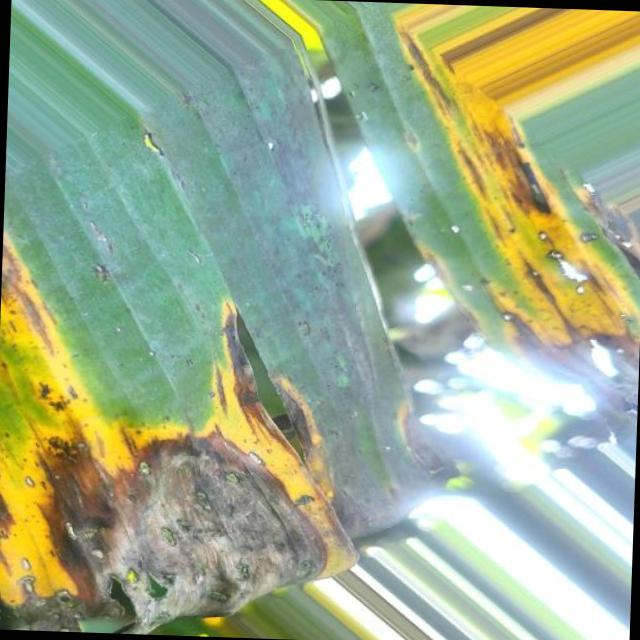Banana_Black_Sigatoka: (0, 319, 433, 640)
